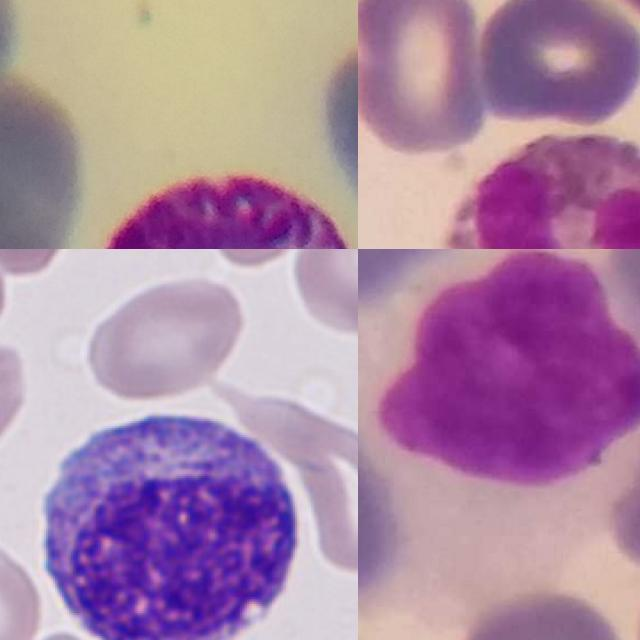Basophil: (91, 171, 358, 249)
Eosinophil: (430, 128, 640, 249)
Lymphocyte: (30, 399, 311, 640)
Monocyte: (358, 249, 640, 593)
RBC: (80, 272, 250, 403), (300, 415, 358, 577), (289, 249, 358, 341), (0, 538, 46, 640), (202, 249, 328, 270), (0, 249, 78, 279)
